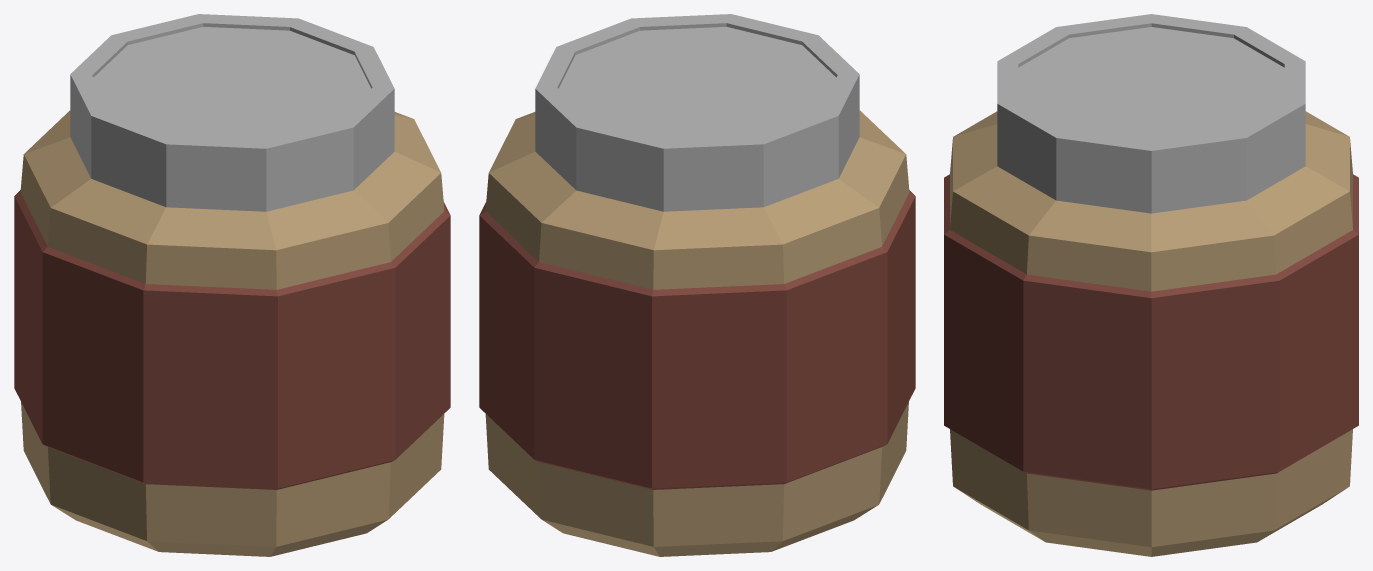
The model's file is Jar_Large.glb.
3 renders of one model, left to right at view 1: azimuth 30°, elevation 25°; view 2: azimuth 150°, elevation 25°; view 3: azimuth 270°, elevation 25°, orthographic.
Visible parts, largest first — view 1: Jar_Large; view 2: Jar_Large; view 3: Jar_Large.
Boxes of the visible parts, x1=… form: Jar_Large: x1=14, y1=14, x2=450, y2=556; Jar_Large: x1=479, y1=14, x2=915, y2=556; Jar_Large: x1=944, y1=14, x2=1358, y2=556.
Size of the model in its own units: 0.6333 by 0.6384 by 0.6022.
